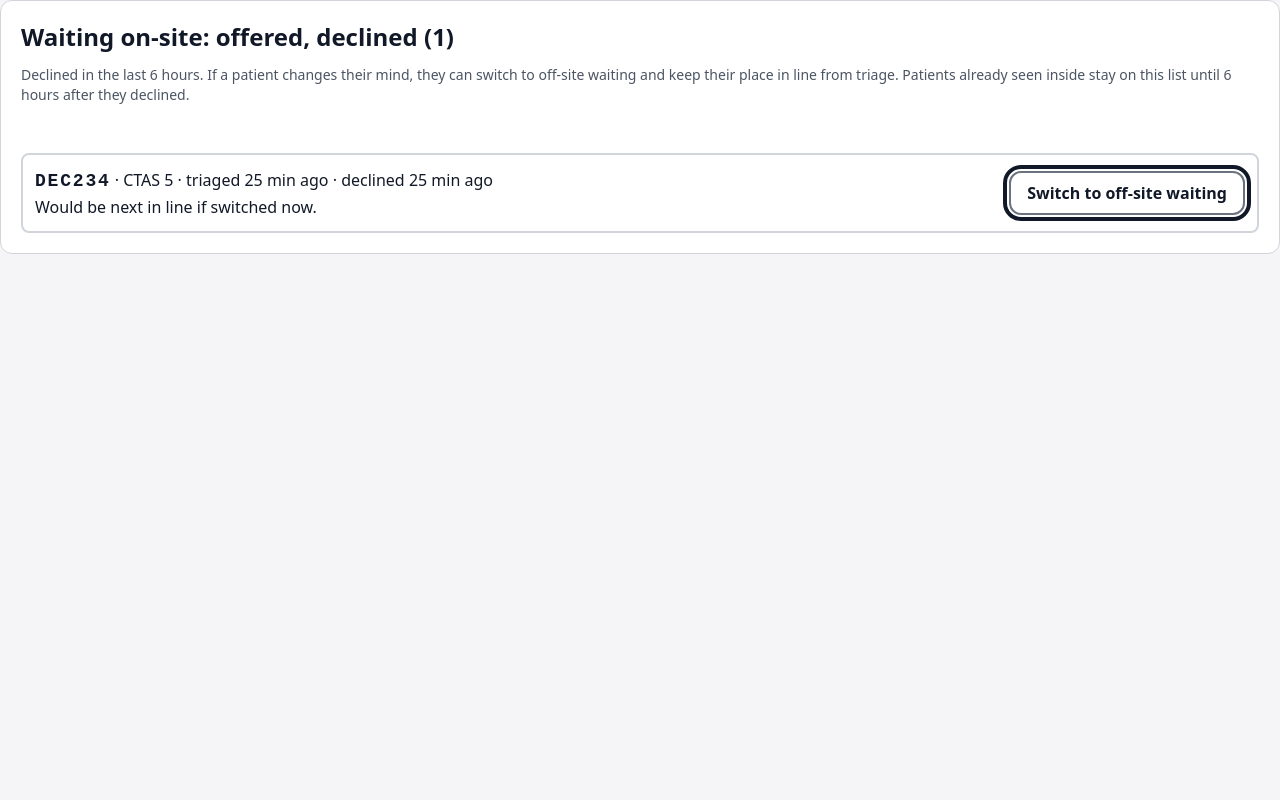
WaitingOnSite › says nothing was saved when the database refuses because the site was paused meanwhile
This screenshot has width=1280, height=800.
Step 1. Click the button "Switch to off-site waiting" → (1127, 193), box top-left (1009, 171), bottom-right (1245, 215)
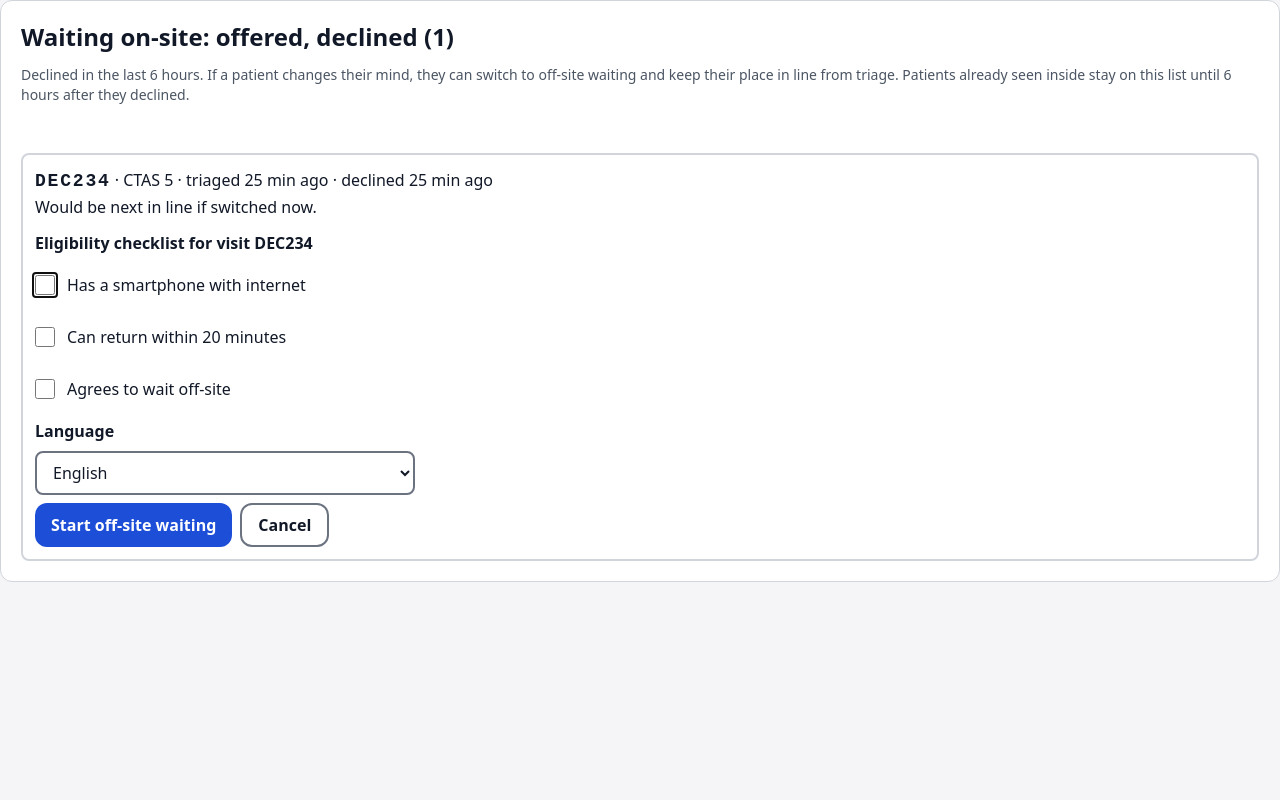
Step 2. Click the checkbox labelled "Has a smartphone with internet" → (45, 285), box top-left (35, 275), bottom-right (55, 295)
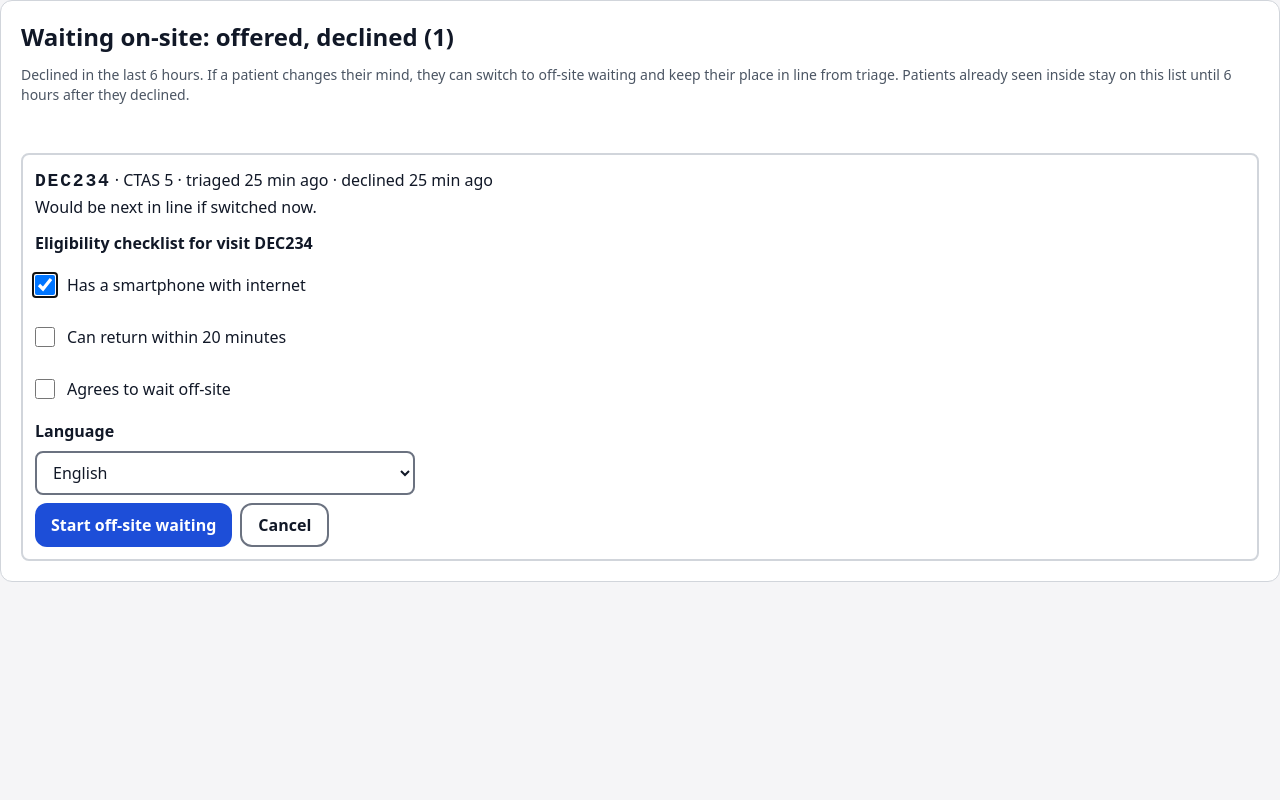
Step 3. Click the checkbox labelled "Can return within 20 minutes" → (45, 337), box top-left (35, 327), bottom-right (55, 347)
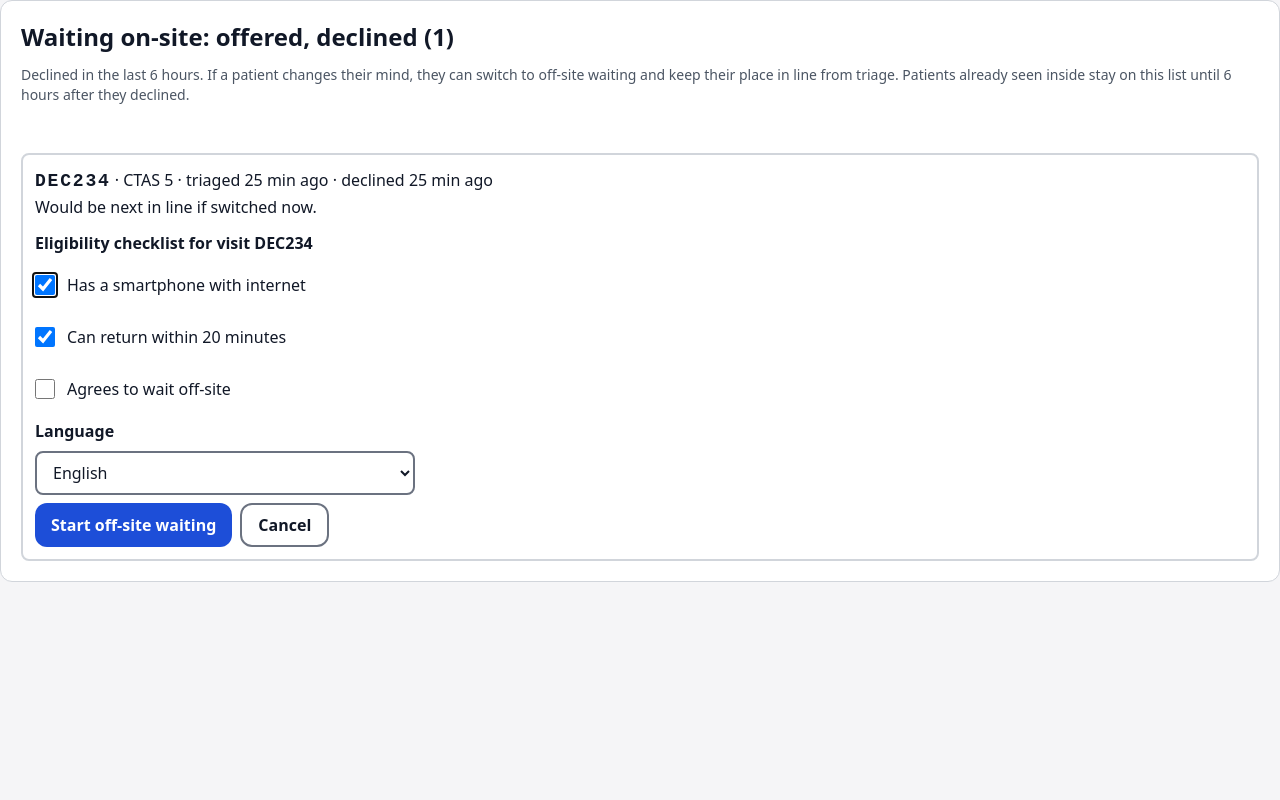
Step 4. Click the checkbox labelled "Agrees to wait off-site" → (45, 389), box top-left (35, 379), bottom-right (55, 399)
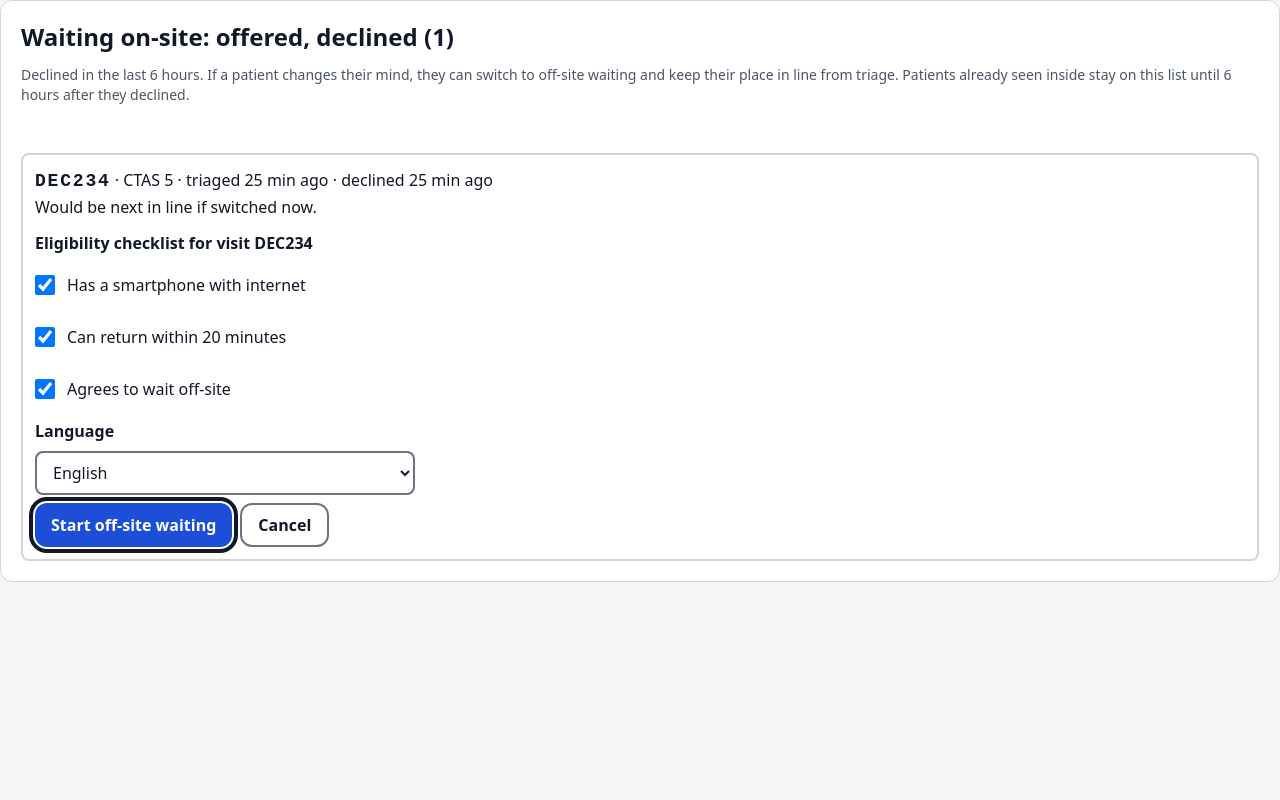
Step 5. Click the button "Start off-site waiting" → (134, 525), box top-left (35, 503), bottom-right (232, 547)
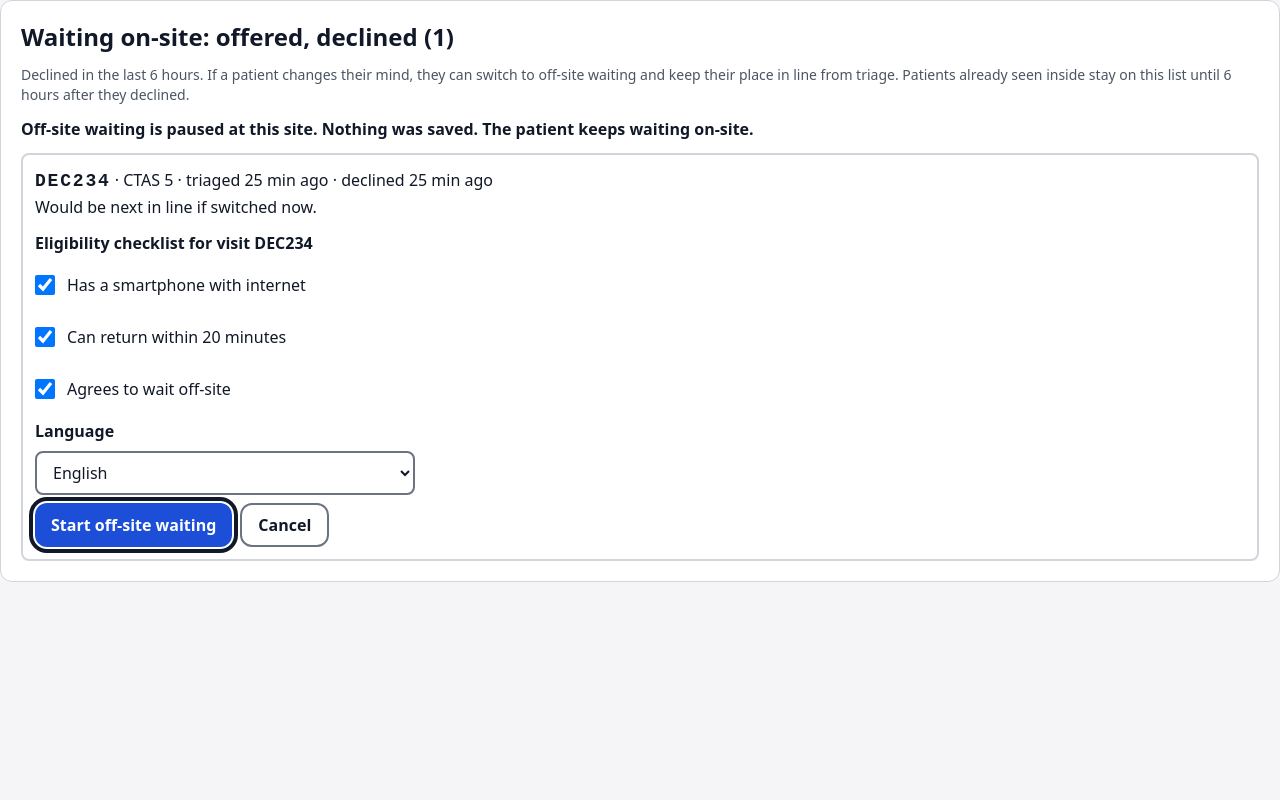
Expected: the text "Off-site waiting is paused at this site. Nothing was saved." is shown, top-left (21, 118), bottom-right (754, 140)
